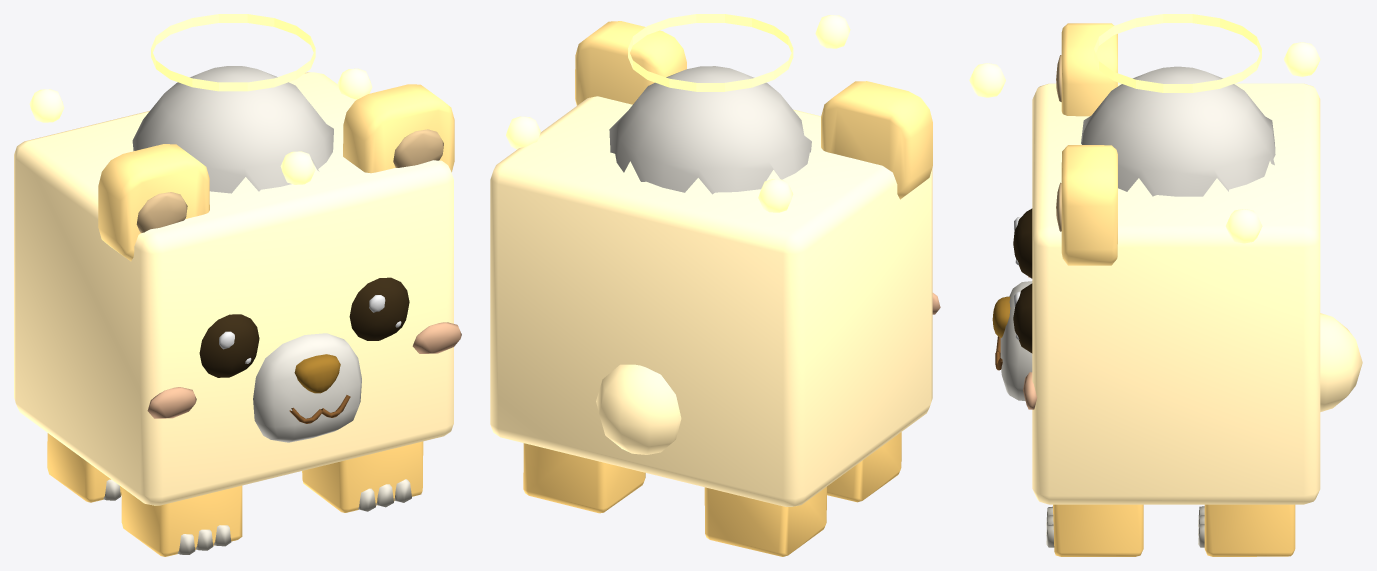
The model's file is Pet_Genesis.fbx.
3 views of the same model, side by side, from view 1: azimuth 30°, elevation 25°; view 2: azimuth 150°, elevation 25°; view 3: azimuth 270°, elevation 25° (orthographic). The views are drawn at different scales.
Visible parts, largest first — view 1: Pet_Genesis_body, Pet_Genesis_acc_shell, Pet_Genesis_ears, Pet_Genesis_feet, Pet_Genesis_muzzle, Pet_Genesis_eyes, Pet_Genesis_acc_ring, Pet_Genesis, Pet_Genesis_toes, Pet_Genesis_cute_innerear_-1, Pet_Genesis_nose, Pet_Genesis_cute_blush_-1 (+3 smaller); view 2: Pet_Genesis_body, Pet_Genesis_acc_shell, Pet_Genesis_ears, Pet_Genesis_feet, Pet_Genesis_cute_tail, Pet_Genesis_acc_ring, Pet_Genesis_acc_seed1, Pet_Genesis_acc_seed2, Pet_Genesis_acc_seed0; view 3: Pet_Genesis_body, Pet_Genesis_acc_shell, Pet_Genesis_ears, Pet_Genesis_feet, Pet_Genesis_acc_ring, Pet_Genesis_cute_tail, Pet_Genesis_eyes, Pet_Genesis_muzzle, Pet_Genesis_acc_seed2, Pet_Genesis_acc_seed0, Pet_Genesis_acc_seed1, Pet_Genesis (+2 smaller).
Boxes of the visible parts, x1=… form: Pet_Genesis_body: x1=14, y1=72, x2=453, y2=505; Pet_Genesis_acc_shell: x1=132, y1=66, x2=333, y2=193; Pet_Genesis_ears: x1=98, y1=84, x2=454, y2=261; Pet_Genesis_feet: x1=47, y1=433, x2=423, y2=556; Pet_Genesis_muzzle: x1=253, y1=333, x2=361, y2=442; Pet_Genesis_eyes: x1=199, y1=277, x2=409, y2=377; Pet_Genesis_acc_ring: x1=151, y1=14, x2=315, y2=91; Pet_Genesis: x1=369, y1=129, x2=461, y2=353; Pet_Genesis_toes: x1=103, y1=479, x2=411, y2=554; Pet_Genesis_cute_innerear_-1: x1=136, y1=192, x2=187, y2=232; Pet_Genesis_nose: x1=294, y1=354, x2=340, y2=393; Pet_Genesis_cute_blush_-1: x1=147, y1=387, x2=196, y2=418; Pet_Genesis_body: x1=490, y1=96, x2=932, y2=506; Pet_Genesis_acc_shell: x1=609, y1=66, x2=811, y2=194; Pet_Genesis_ears: x1=575, y1=21, x2=932, y2=199; Pet_Genesis_feet: x1=523, y1=432, x2=901, y2=556; Pet_Genesis_cute_tail: x1=596, y1=364, x2=681, y2=454; Pet_Genesis_acc_ring: x1=628, y1=14, x2=793, y2=91; Pet_Genesis_acc_seed1: x1=758, y1=179, x2=793, y2=212; Pet_Genesis_acc_seed2: x1=815, y1=15, x2=850, y2=48; Pet_Genesis_acc_seed0: x1=506, y1=116, x2=540, y2=149; Pet_Genesis_body: x1=1032, y1=83, x2=1320, y2=504; Pet_Genesis_acc_shell: x1=1081, y1=66, x2=1275, y2=196; Pet_Genesis_ears: x1=1061, y1=23, x2=1117, y2=265; Pet_Genesis_feet: x1=1053, y1=504, x2=1295, y2=556; Pet_Genesis_acc_ring: x1=1094, y1=14, x2=1261, y2=92; Pet_Genesis_cute_tail: x1=1320, y1=313, x2=1362, y2=411; Pet_Genesis_eyes: x1=1013, y1=208, x2=1032, y2=353; Pet_Genesis_muzzle: x1=1000, y1=281, x2=1032, y2=400; Pet_Genesis_acc_seed2: x1=969, y1=63, x2=1005, y2=97; Pet_Genesis_acc_seed0: x1=1225, y1=209, x2=1262, y2=243; Pet_Genesis_acc_seed1: x1=1284, y1=42, x2=1320, y2=76; Pet_Genesis: x1=1014, y1=182, x2=1061, y2=409.
Size of the model in its own units: 237 by 293 by 234.
